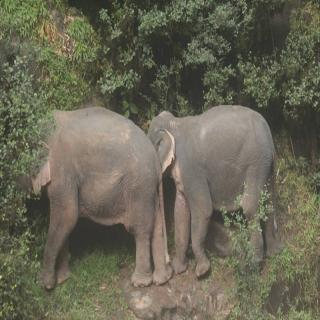Elephant: (14, 104, 176, 290), (146, 99, 290, 281)
